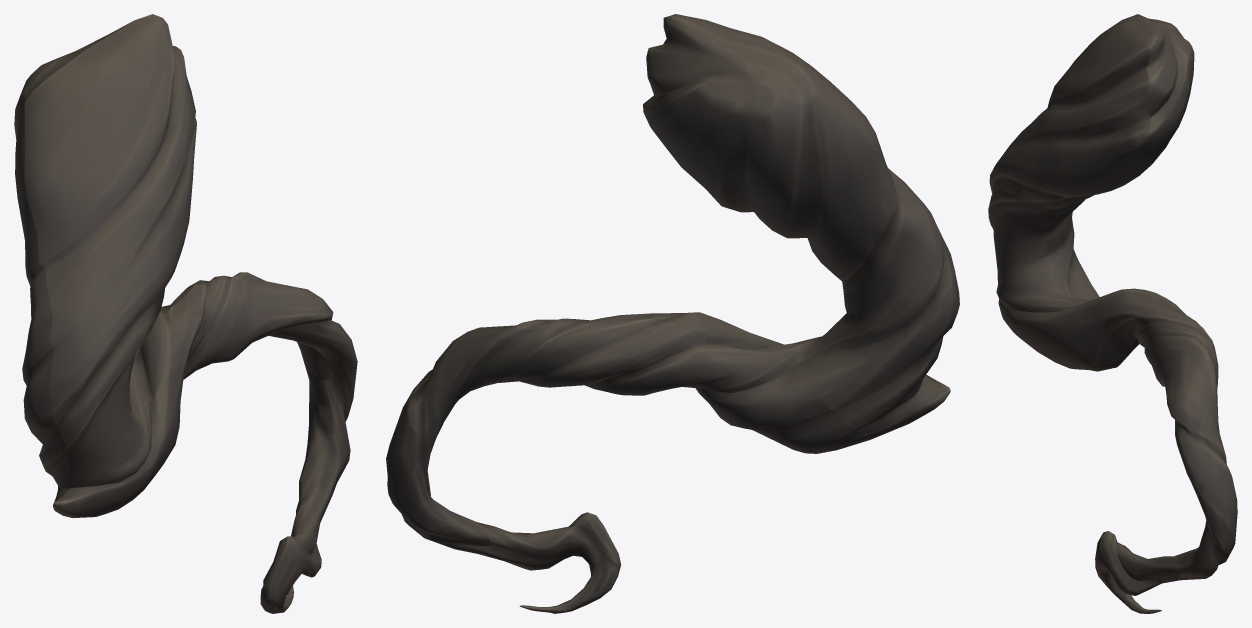
3 renders of one model, left to right at view 1: azimuth 30°, elevation 25°; view 2: azimuth 150°, elevation 25°; view 3: azimuth 270°, elevation 25°, orthographic. The views are drawn at different scales.
Visible parts, largest first — view 1: SM_KC_ROOT_01_B; view 2: SM_KC_ROOT_01_B; view 3: SM_KC_ROOT_01_B.
Part boxes in pixels (x1,y1,x2,y2): SM_KC_ROOT_01_B: (14,14,357,613); SM_KC_ROOT_01_B: (386,14,959,613); SM_KC_ROOT_01_B: (988,14,1237,613).
Bounding box in the file's own units: 5.75 × 7.78 × 3.36.
1 material, 1 textured.
